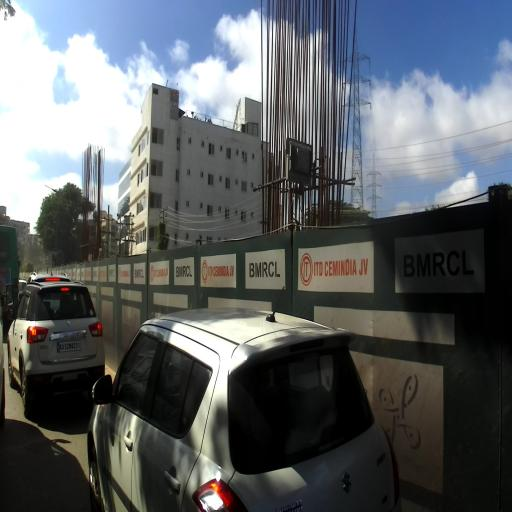street_light_0: (44, 183, 60, 195), (57, 189, 72, 195)
